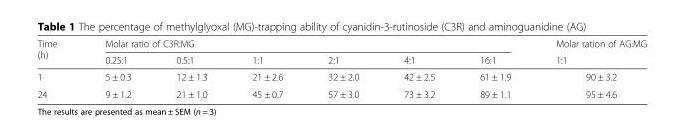table: (36, 37, 646, 99)
table column: (532, 37, 646, 99), (228, 37, 304, 99), (304, 37, 380, 99), (380, 37, 456, 99), (456, 37, 532, 99), (153, 37, 228, 99), (80, 37, 153, 99), (36, 37, 80, 99)
table column header: (36, 37, 646, 67)
table row: (36, 67, 646, 85), (36, 51, 646, 67), (36, 37, 646, 51), (36, 85, 646, 99)
table spanning cell: (80, 37, 532, 51), (532, 37, 646, 67), (36, 37, 80, 67)
